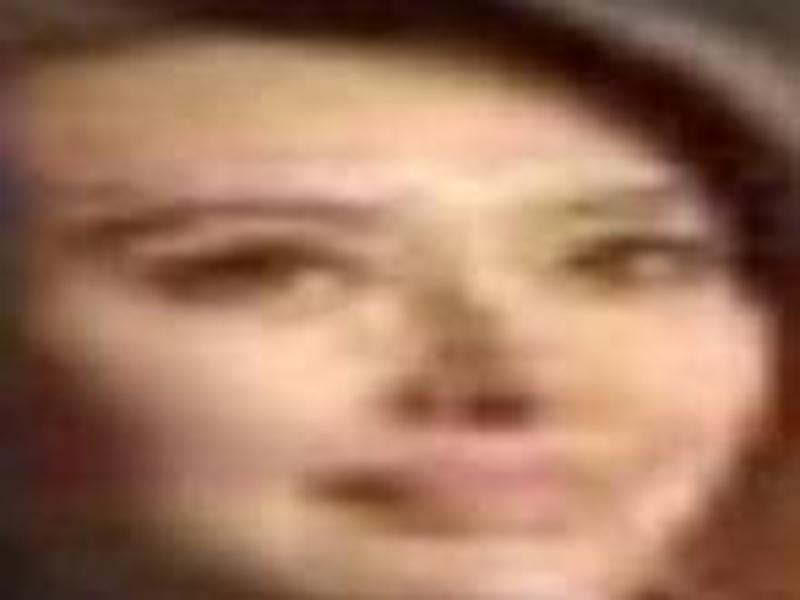without_mask: (8, 53, 759, 600)
